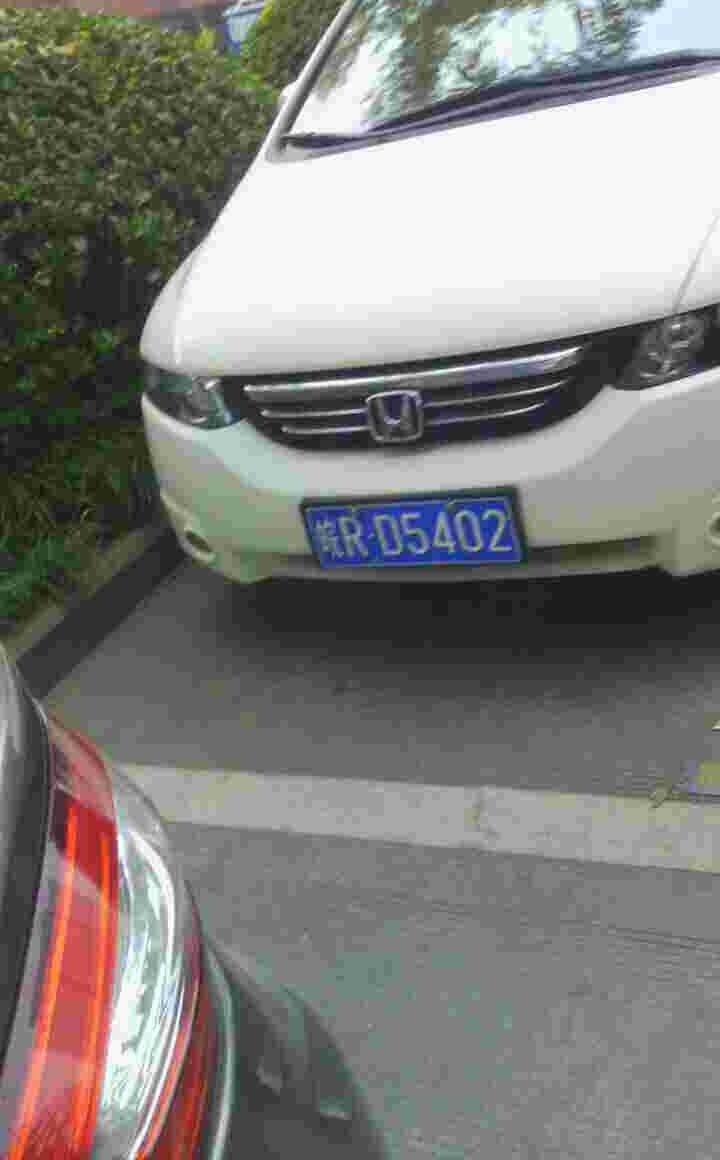license_plate: (311, 485, 509, 568)
